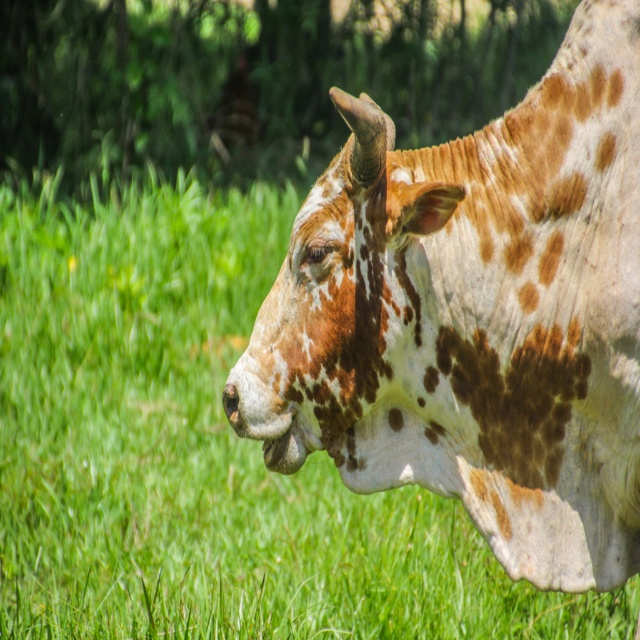Cattle: (223, 0, 640, 594)
